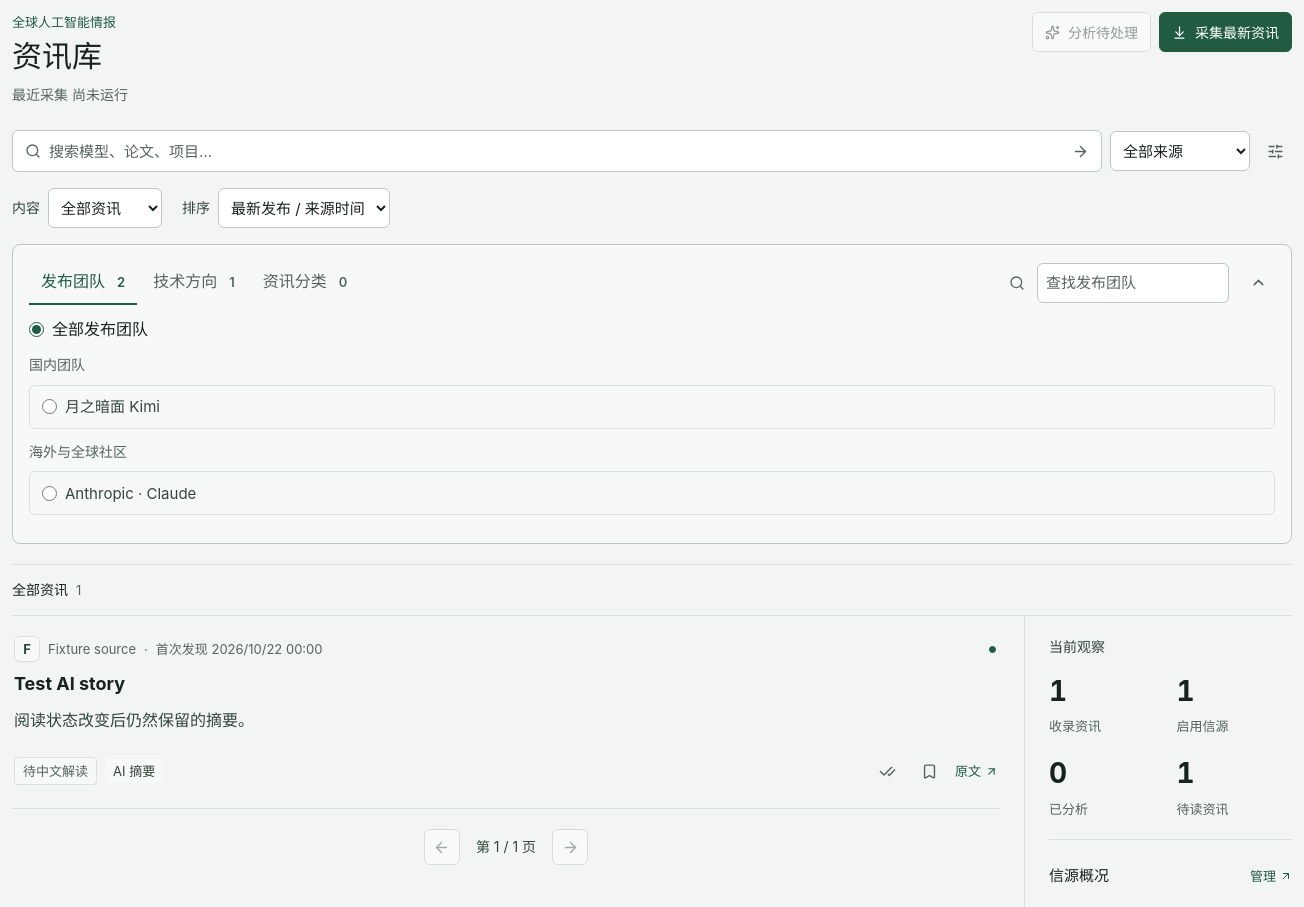
Test: feed interactions using isolated fixtures › updates the reading indicator from persisted state in both directions
Expected: the picture named "未读" is shown, [986,636,998,662]
Click the button named "标为已读" at (888, 771), box [871,754,905,788]
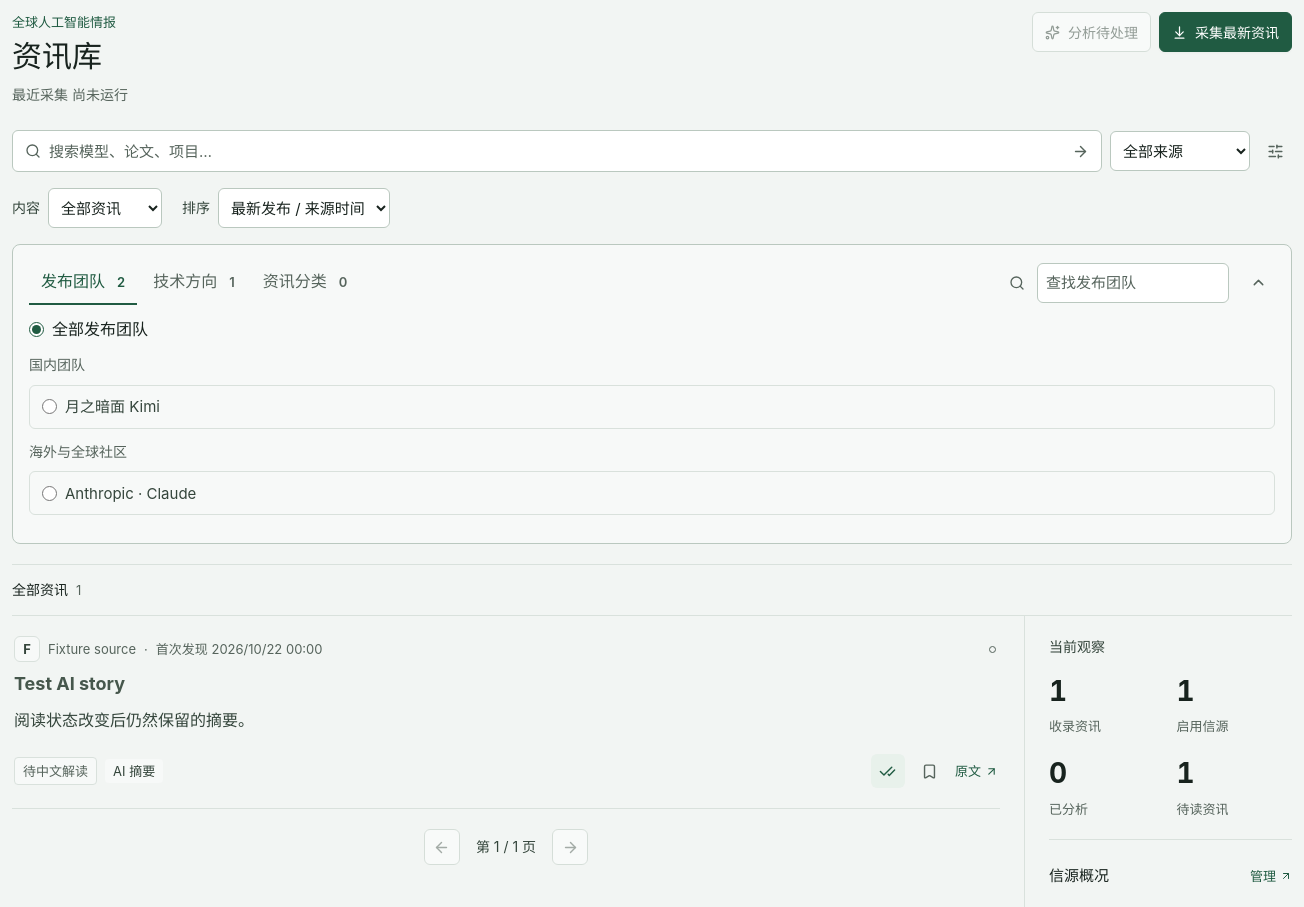
Expected: the text "阅读状态改变后仍然保留的摘要。" is shown, [14,710,254,730]
Now the picture named "已读" is shown, box [986,636,998,662]
Click the button named "标为未读" at (888, 771), box [871,754,905,788]
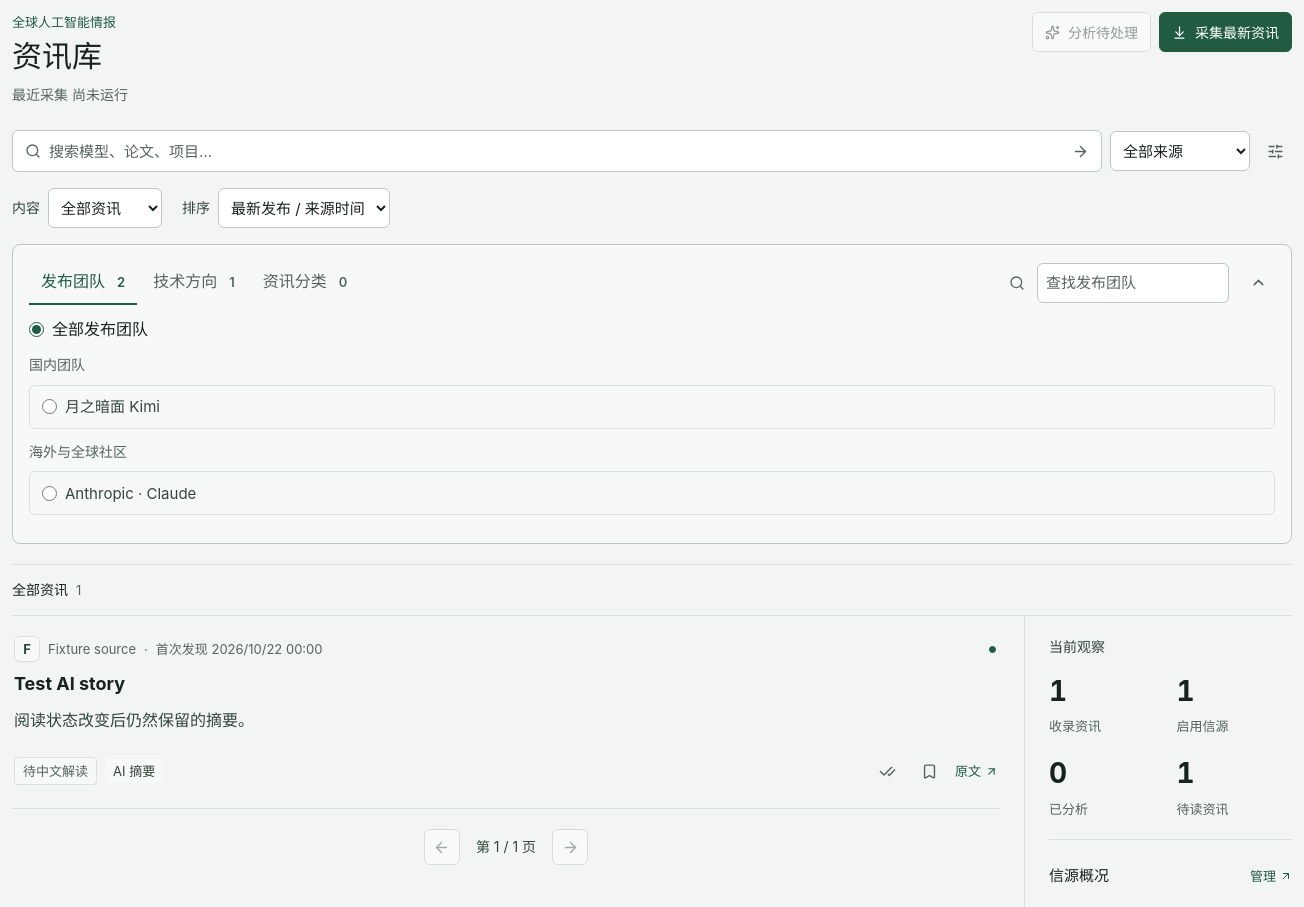
Now the picture named "未读" is shown, box [986,636,998,662]
